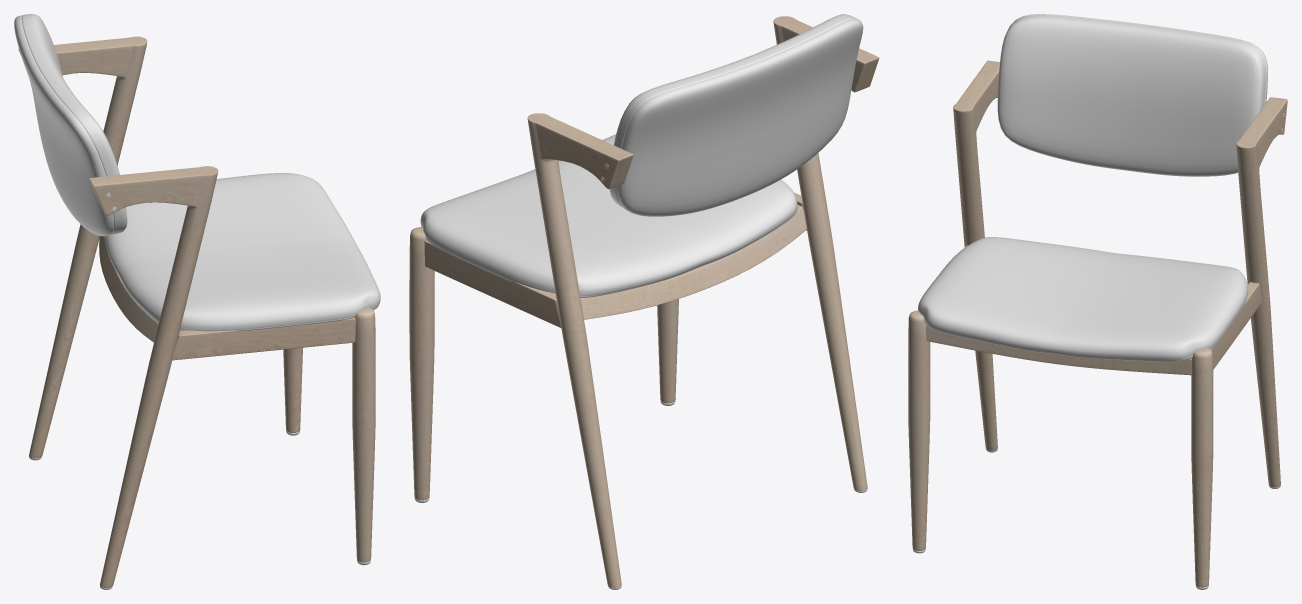
Rendered from SillaJefe2.fbx.
3 views of the same model, side by side, from view 1: azimuth 30°, elevation 25°; view 2: azimuth 150°, elevation 25°; view 3: azimuth 270°, elevation 25° (orthographic). The views are drawn at different scales.
Visible parts, largest first — view 1: Scandinavian chair.001; view 2: Scandinavian chair.001; view 3: Scandinavian chair.001.
Boxes of the visible parts, bbox=[...] form: Scandinavian chair.001: bbox=[14, 14, 380, 589]; Scandinavian chair.001: bbox=[409, 14, 879, 589]; Scandinavian chair.001: bbox=[908, 14, 1287, 589].
Bounding box in the file's own units: 131 × 176 × 140.
Materials: 2 (1 with a texture image).
